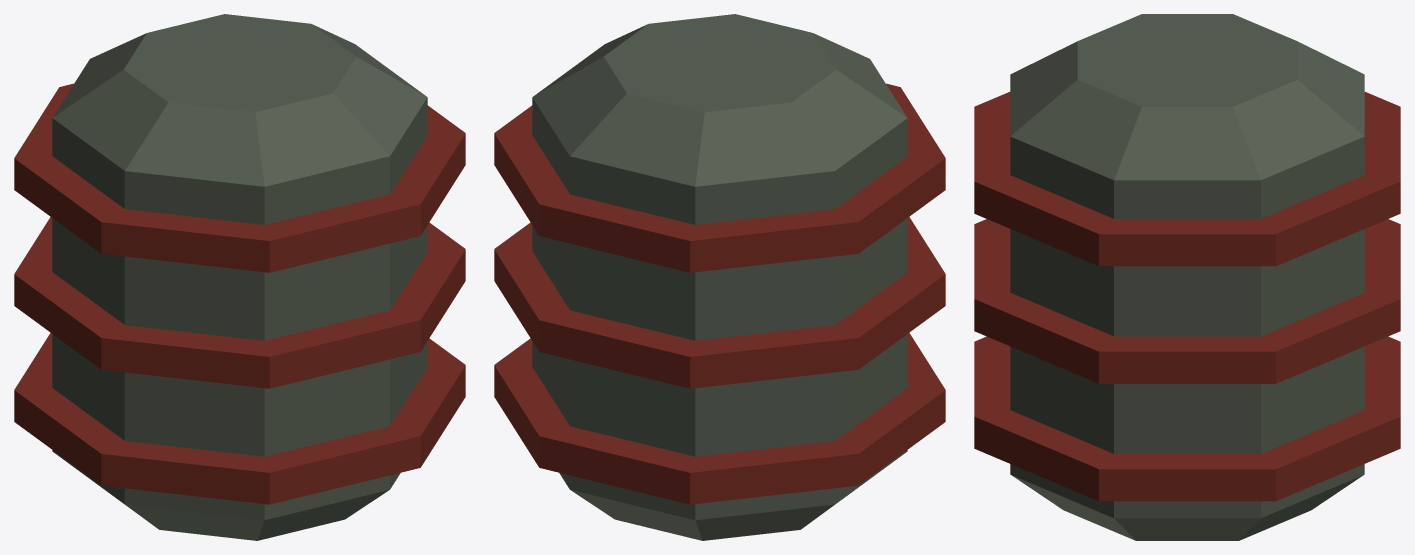
The model's file is s150_vessel.obj.
3 renders of one model, left to right at view 1: azimuth 30°, elevation 25°; view 2: azimuth 150°, elevation 25°; view 3: azimuth 270°, elevation 25°, orthographic.
Visible parts, largest first — view 1: s150_vessel; view 2: s150_vessel; view 3: s150_vessel.
Part boxes in pixels (<box>): s150_vessel: <box>14,14,465,540</box>; s150_vessel: <box>494,14,945,540</box>; s150_vessel: <box>974,14,1400,540</box>.
Size of the model in its own units: 1.14 by 1.26 by 1.14.
